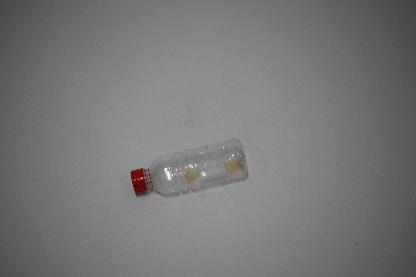Plastic Bottle: (130, 140, 248, 198)
